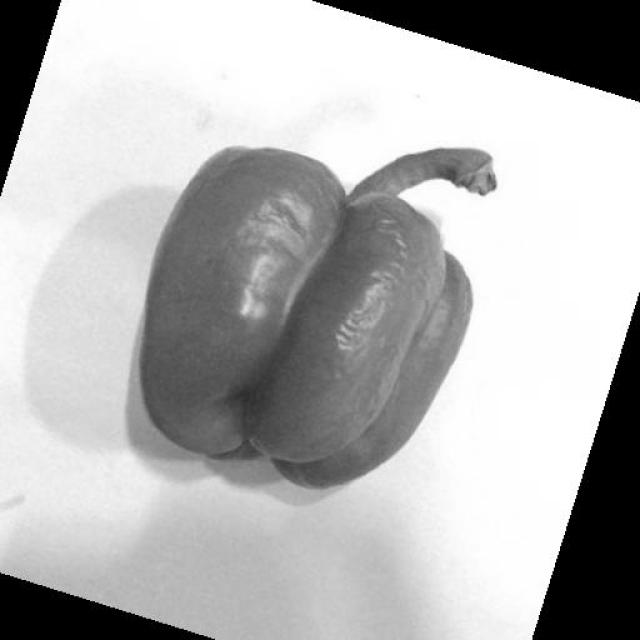Fresh_Capsicum: (163, 95, 478, 463)
